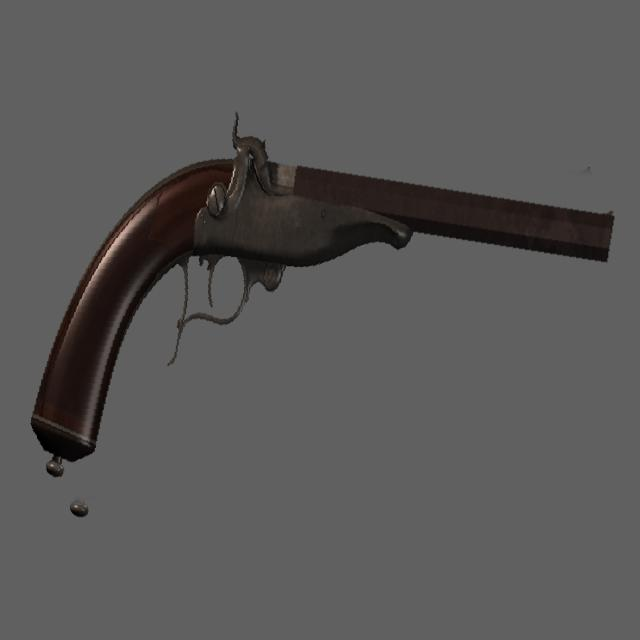gun: (27, 107, 620, 562)
